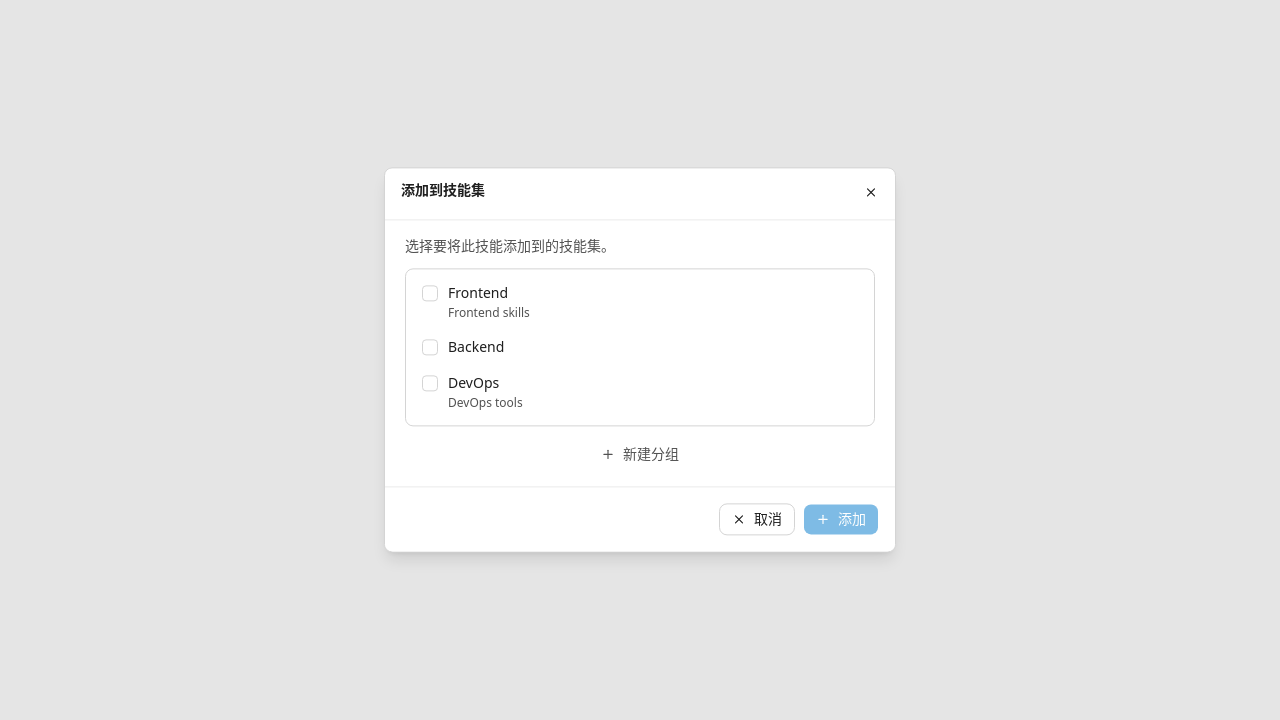
Test: CollectionPickerDialog › shows error when addSkillToCollection fails
Click the checkbox named "Backend": (430, 348) [422,340,438,356]
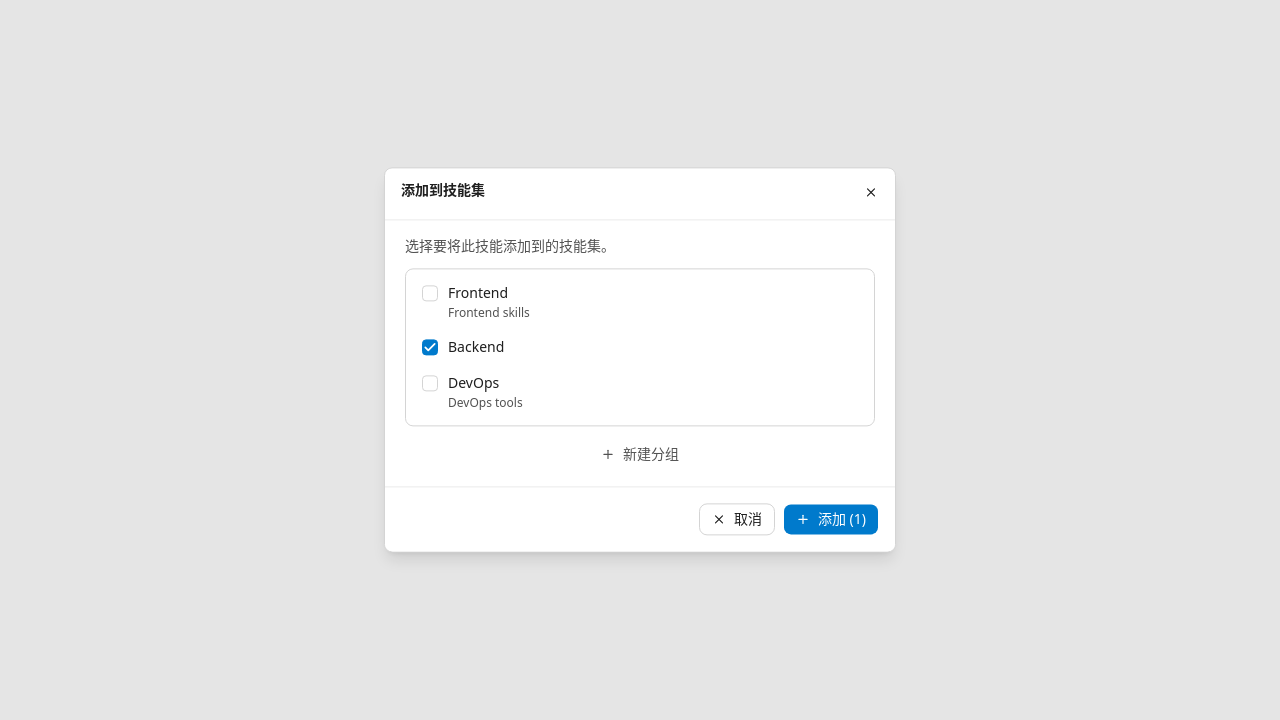
Click the button "添加 (1)": (831, 520) [783,504,879,536]
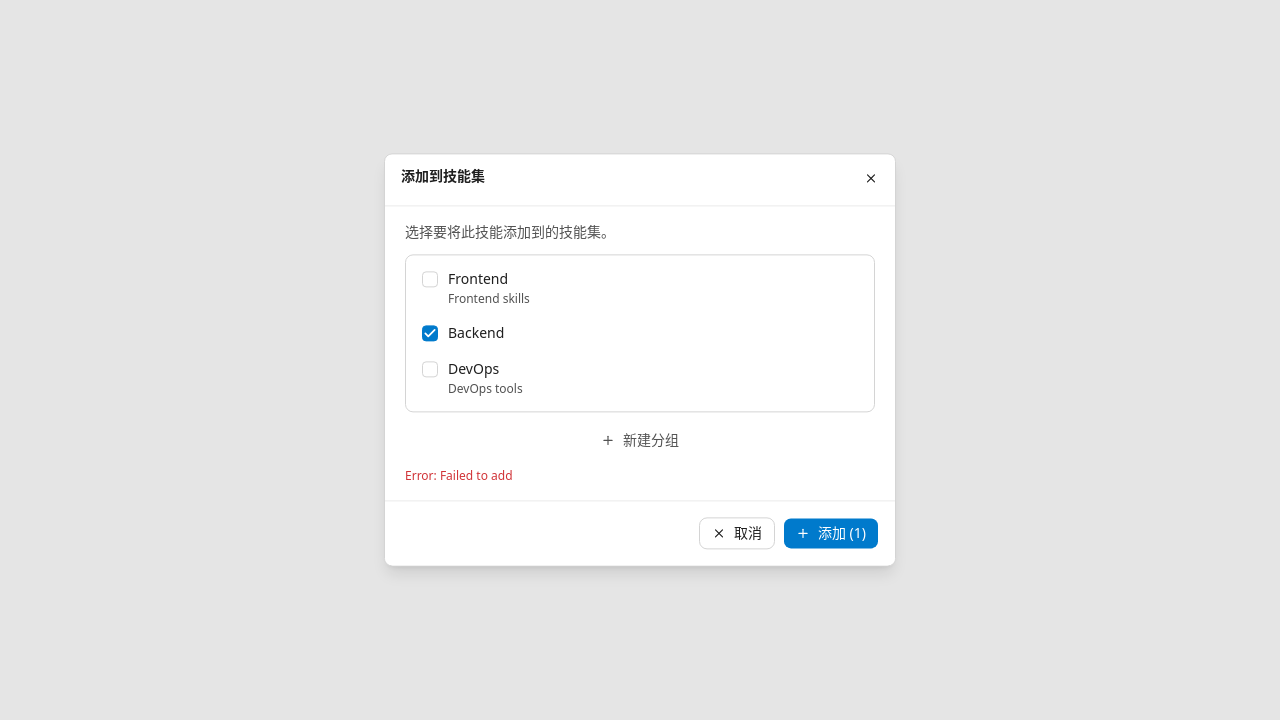
Expected: the message shows "Failed to add", [405,468,512,485]
